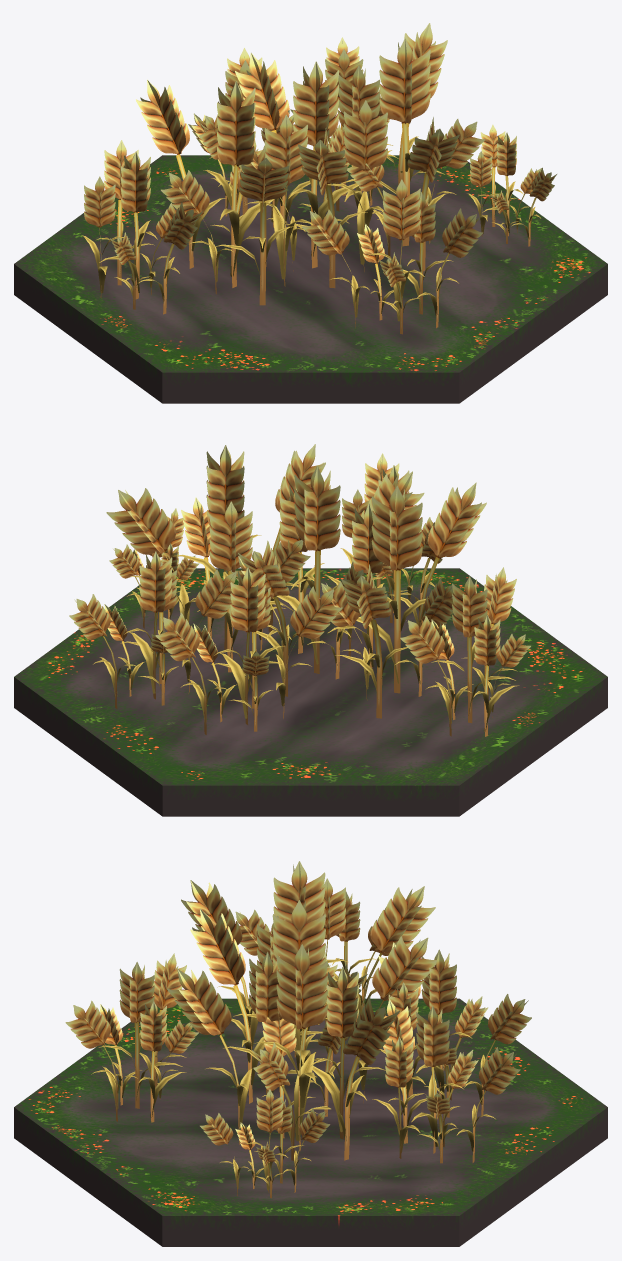
File: Crop_final.fbx
3 renders of one model, top to bottom at view 1: azimuth 30°, elevation 25°; view 2: azimuth 150°, elevation 25°; view 3: azimuth 270°, elevation 25°, orthographic.
Visible parts, largest first — view 1: Tile_agro_low, Leaf_low.011, Leaf_low.007, Leaf_low.010, Leaf_low.009, Leaf_low.012, Leaf_low.014, Leaf_low.008, Leaf_low.013; view 2: Tile_agro_low, Leaf_low.011, Leaf_low.010, Leaf_low.007, Leaf_low.008, Leaf_low.012, Leaf_low.013, Leaf_low.009, Leaf_low.014; view 3: Tile_agro_low, Leaf_low.010, Leaf_low.007, Leaf_low.009, Leaf_low.013, Leaf_low.011, Leaf_low.008, Leaf_low.014, Leaf_low.012.
Part boxes in pixels (box(x1,y1,x2,y2)): Tile_agro_low: box(14, 155, 607, 403); Leaf_low.011: box(136, 79, 313, 305); Leaf_low.007: box(235, 53, 387, 288); Leaf_low.010: box(338, 23, 485, 271); Leaf_low.009: box(302, 179, 482, 334); Leaf_low.012: box(81, 140, 202, 314); Leaf_low.014: box(467, 124, 556, 246); Leaf_low.008: box(188, 48, 296, 227); Leaf_low.013: box(290, 37, 392, 211); Tile_agro_low: box(14, 568, 607, 816); Leaf_low.011: box(319, 482, 486, 718); Leaf_low.010: box(106, 444, 325, 672); Leaf_low.007: box(230, 466, 424, 696); Leaf_low.008: box(155, 567, 342, 734); Leaf_low.012: box(400, 567, 530, 736); Leaf_low.013: box(69, 551, 236, 708); Leaf_low.009: box(340, 453, 442, 623); Leaf_low.014: box(109, 508, 199, 628); Tile_agro_low: box(14, 998, 607, 1246); Leaf_low.010: box(167, 944, 399, 1160); Leaf_low.007: box(190, 900, 436, 1116); Leaf_low.009: box(65, 953, 198, 1122); Leaf_low.013: box(372, 999, 520, 1163); Leaf_low.011: box(181, 861, 435, 1070); Leaf_low.008: box(378, 942, 531, 1117); Leaf_low.014: box(200, 1089, 330, 1198); Leaf_low.012: box(235, 878, 389, 1022).
Bounding box in the file's own units: 524 × 271 × 605.
